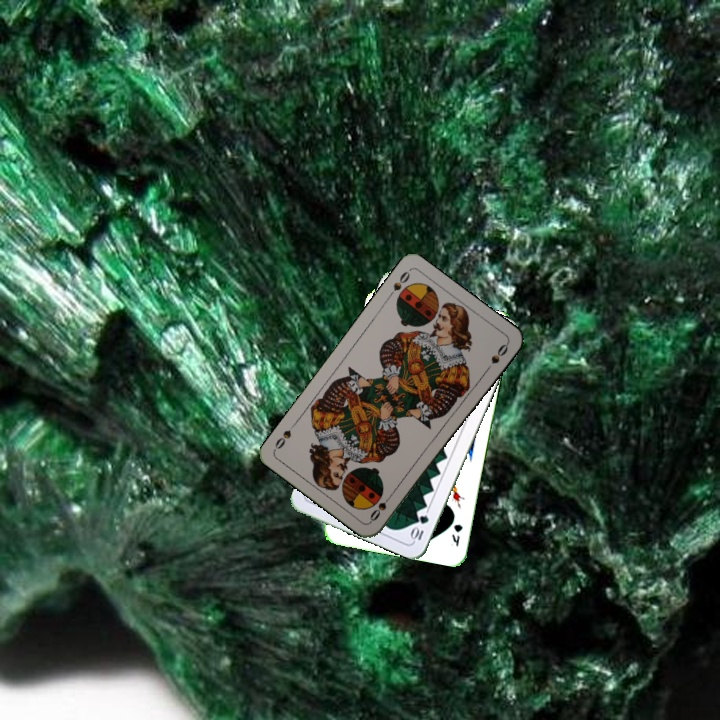G10: (407, 510, 431, 544)
GK: (448, 520, 465, 548)
SO: (366, 489, 396, 524), (383, 267, 413, 301)
